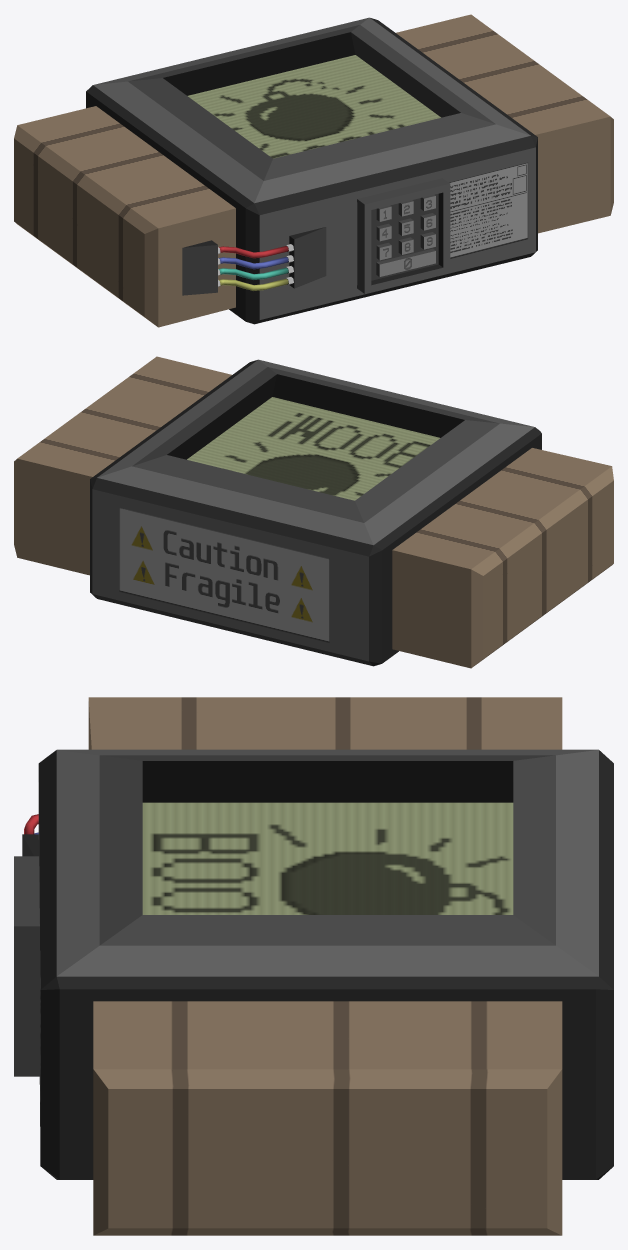
Rendered from Bomb.fbx.
3 renders of one model, top to bottom at view 1: azimuth 30°, elevation 25°; view 2: azimuth 150°, elevation 25°; view 3: azimuth 270°, elevation 25°, orthographic. The views are drawn at different scales.
Parts seen in each view (by area): view 1: Cube; view 2: Cube; view 3: Cube.
Boxes of the visible parts, x1,y1,x2,y2 form: Cube: (14,14,613,327); Cube: (14,356,613,668); Cube: (14,697,613,1235).
Bounding box in the file's own units: 200 × 132 × 55.4.
